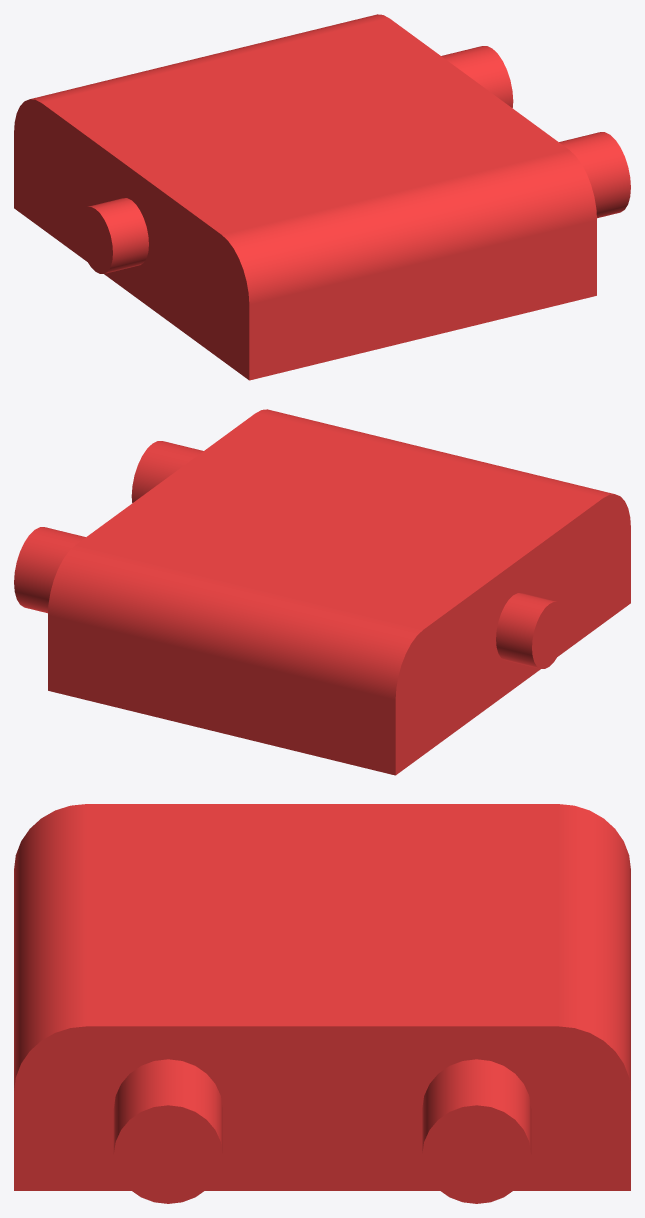
The model's file is suporteseguidor.dae.
3 renders of one model, top to bottom at view 1: azimuth 30°, elevation 25°; view 2: azimuth 150°, elevation 25°; view 3: azimuth 270°, elevation 25°, orthographic. The views are drawn at different scales.
Parts seen in each view (by area): view 1: node_5c4c7cb8_04b2_4b46_94ea_c3e51da1e55f_mesh0; view 2: node_5c4c7cb8_04b2_4b46_94ea_c3e51da1e55f_mesh0; view 3: node_5c4c7cb8_04b2_4b46_94ea_c3e51da1e55f_mesh0.
Part boxes in pixels (x1,y1,x2,y2): node_5c4c7cb8_04b2_4b46_94ea_c3e51da1e55f_mesh0: (14,14,630,380); node_5c4c7cb8_04b2_4b46_94ea_c3e51da1e55f_mesh0: (14,409,630,775); node_5c4c7cb8_04b2_4b46_94ea_c3e51da1e55f_mesh0: (14,804,630,1203).
Size of the model in its own units: 0.038 by 0.01 by 0.034.
